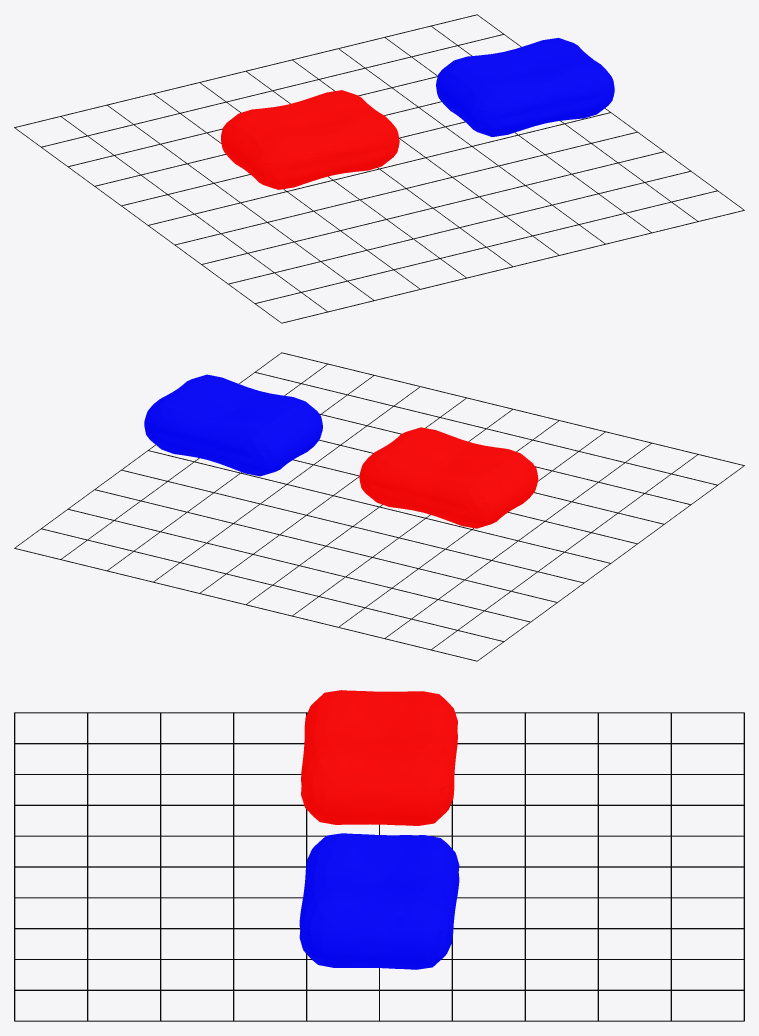
File: interaction.glb
3 renders of one model, top to bottom at view 1: azimuth 30°, elevation 25°; view 2: azimuth 150°, elevation 25°; view 3: azimuth 270°, elevation 25°, orthographic. The views are drawn at different scales.
Size of the model in its own units: 10.02 by 1.47 by 10.02.
